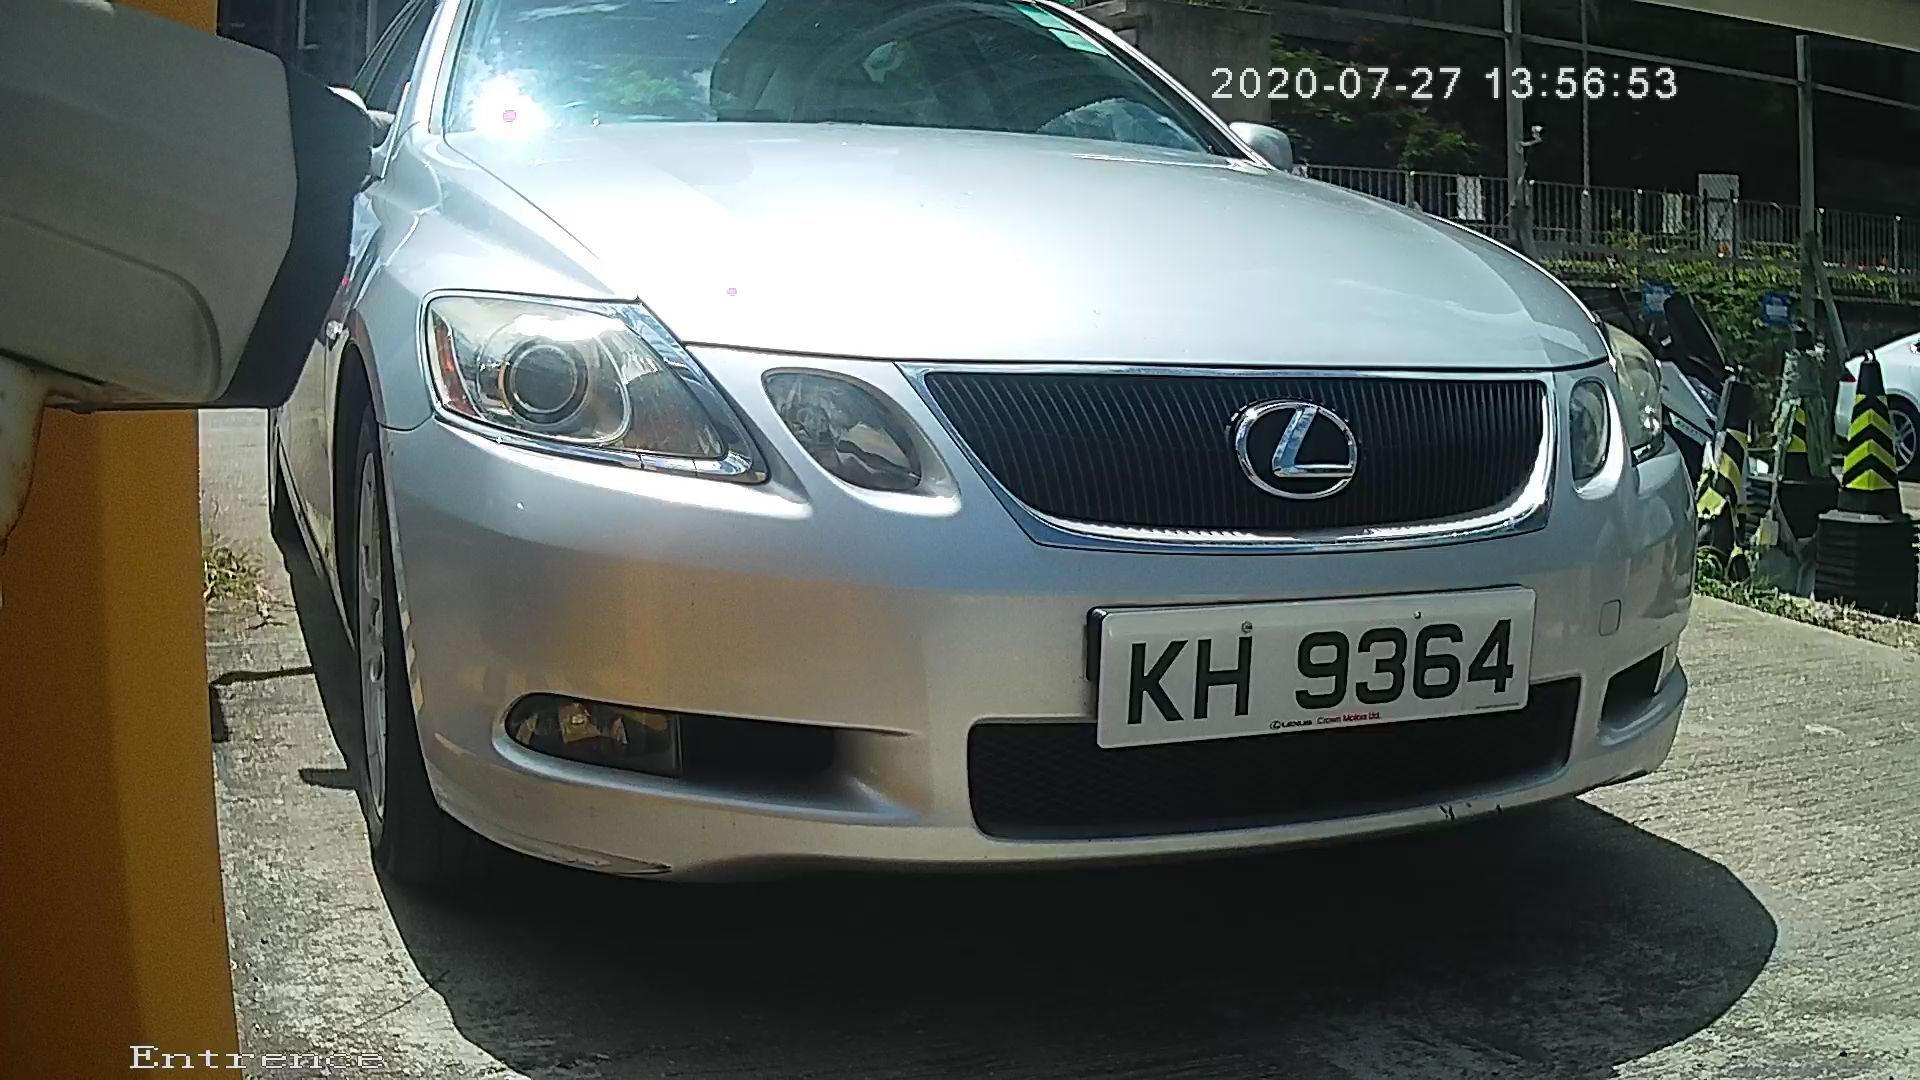License Plate: (1063, 579, 1543, 757)
